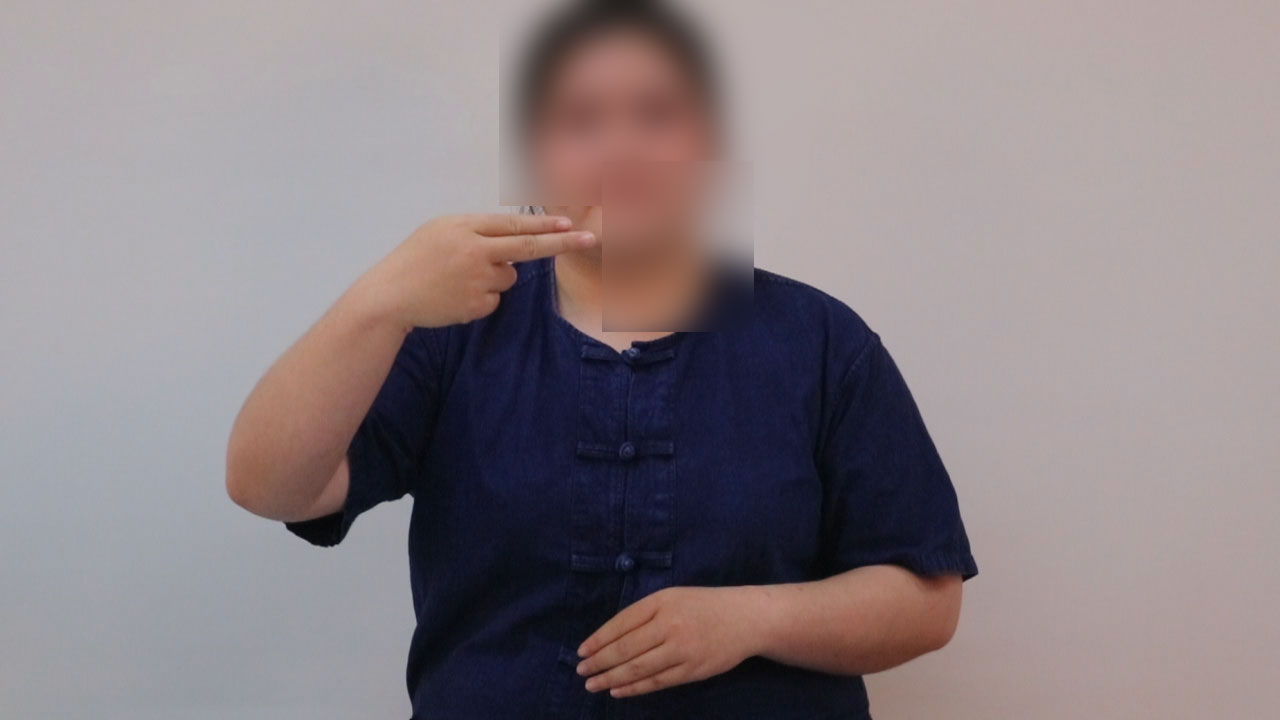hor: (344, 201, 612, 337)
